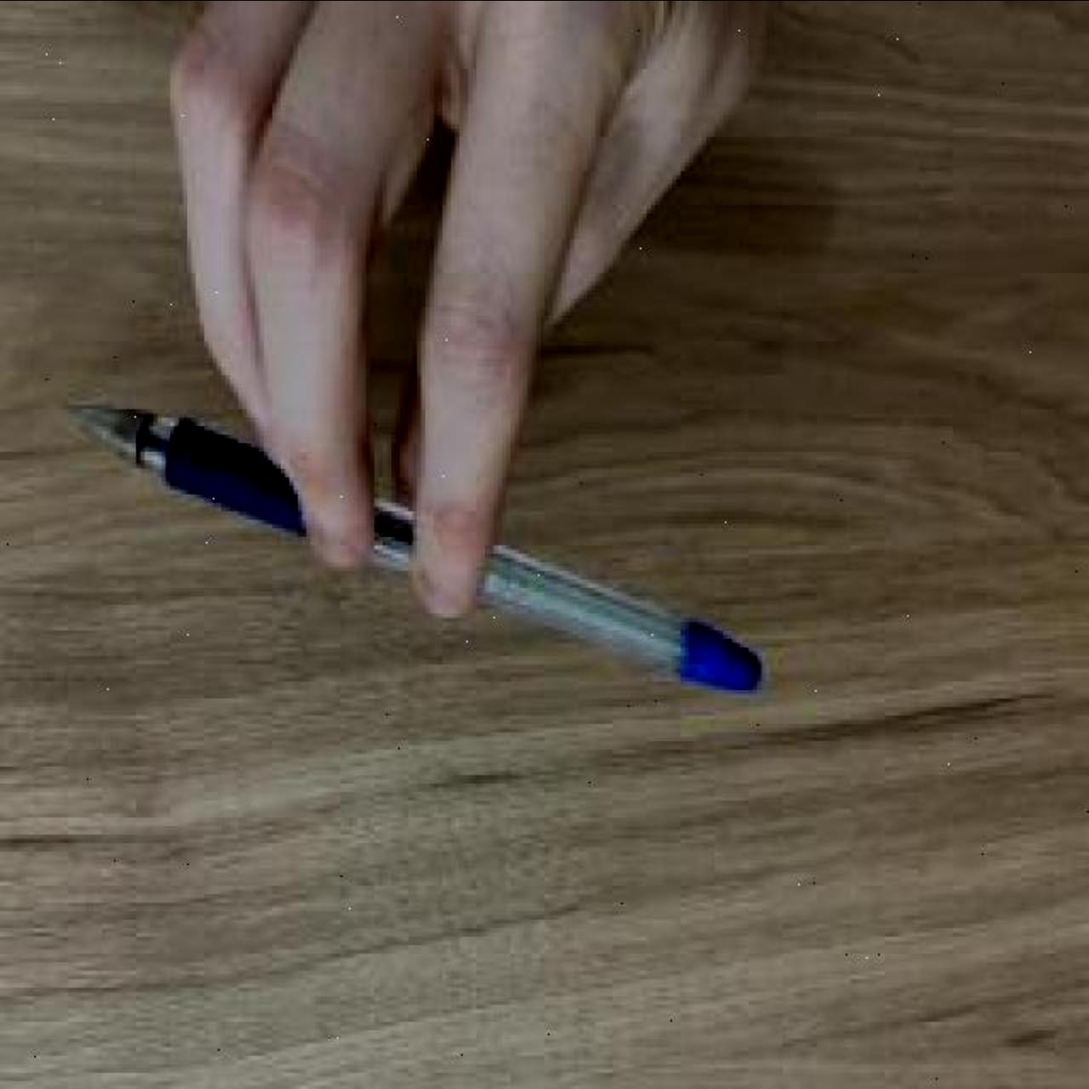pen: (60, 396, 766, 703)
